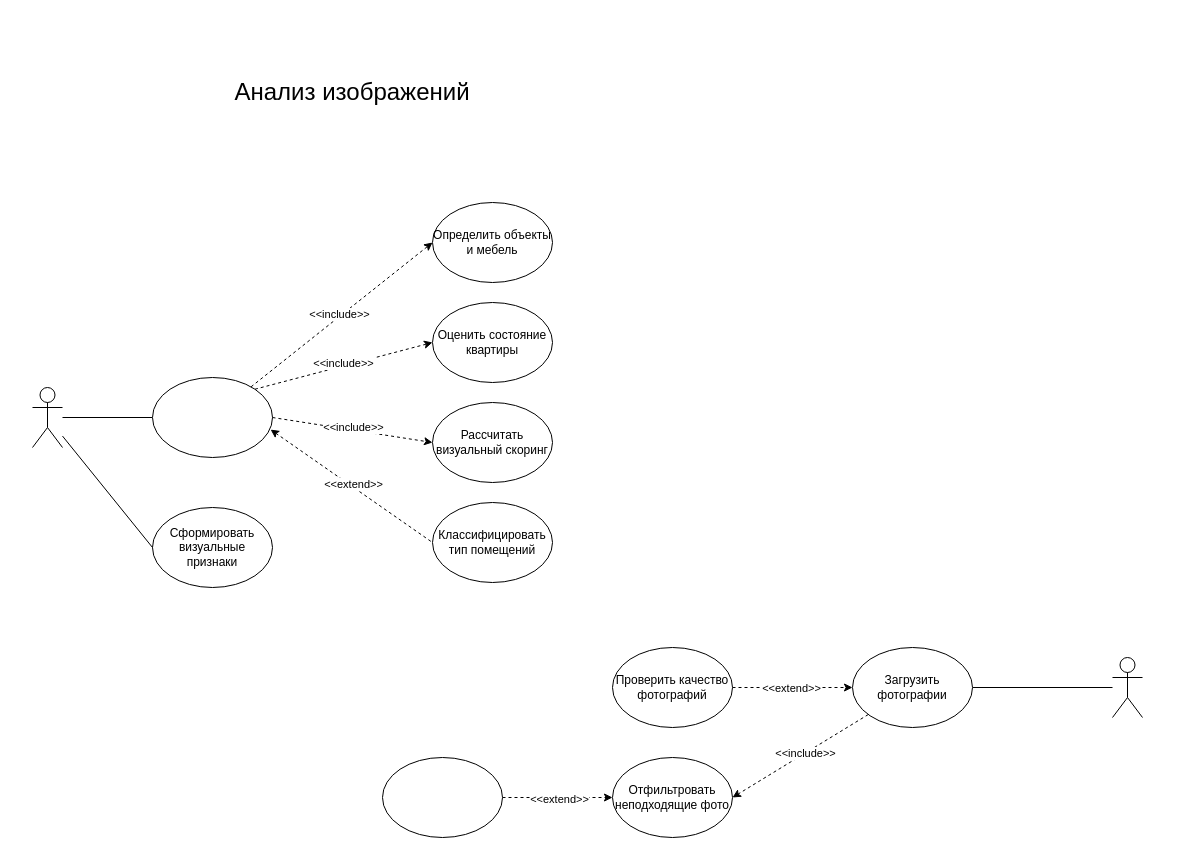
Image size: 1185x855. Some labels were removed from this diagram. The shapes that lost their labels are listed below. From the top down, each one's centre as x and y in pixels, then its label:
the point at 47,417: CV модель
the point at 212,417: Извлечь визуальные признаки
the point at 1127,687: Арендодатель
the point at 442,797: Запросить новые фотографии
